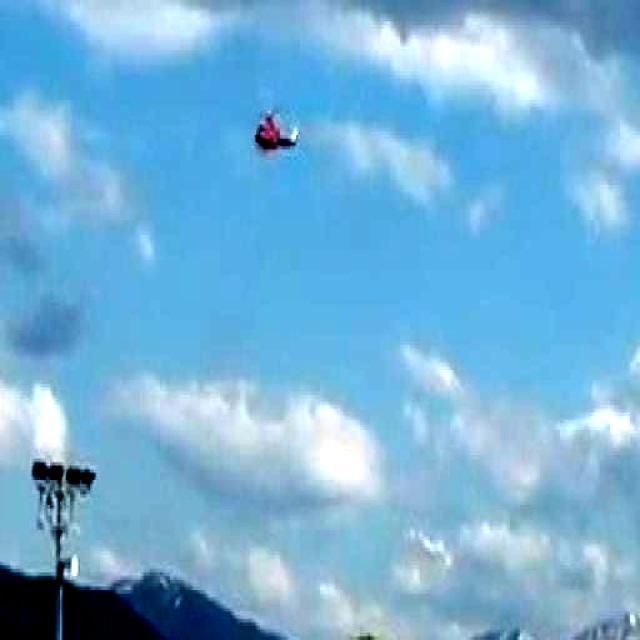drone: (254, 110, 301, 154)
